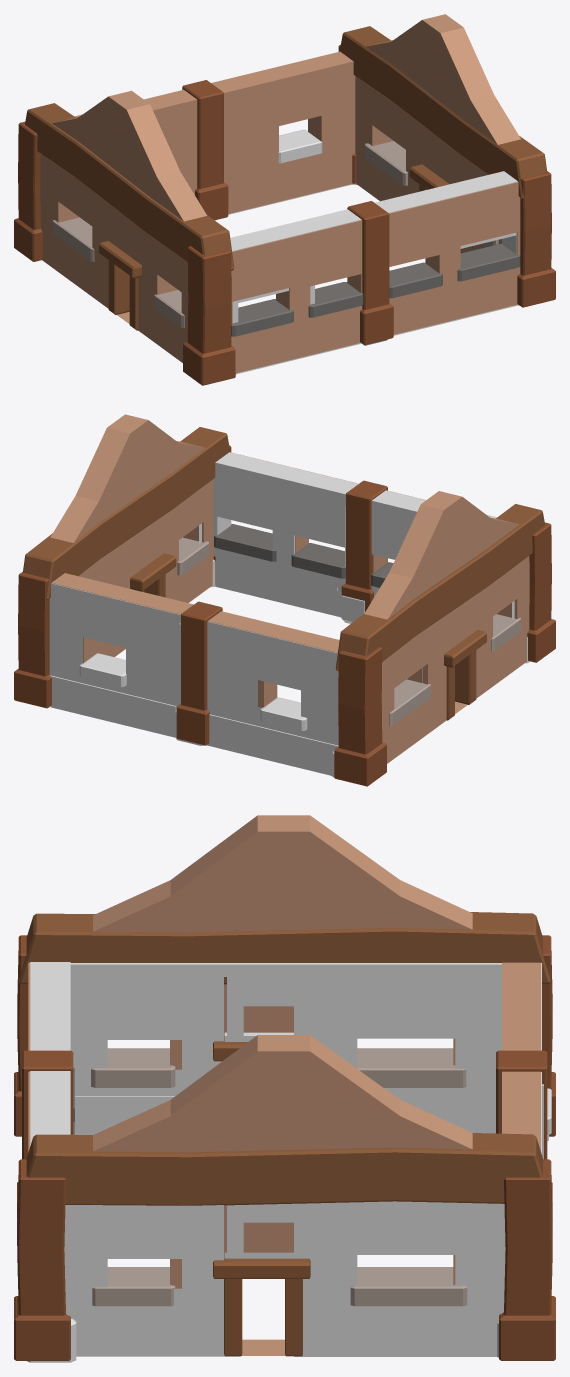
Rendered from ShopV2.fbx.
3 renders of one model, top to bottom at view 1: azimuth 30°, elevation 25°; view 2: azimuth 150°, elevation 25°; view 3: azimuth 270°, elevation 25°, orthographic. The views are drawn at different scales.
Parts seen in each view (by area): view 1: Building, WoodFrame, Top Frame, Windowbottom.003, Cube, Windowbottom, DoorFrame.002, Windowbottom.001, DoorFrame.001; view 2: Cube, Building, WoodFrame, Top Frame, Windowbottom.003, Windowbottom, DoorFrame.002, DoorFrame.001, Windowbottom.001, Windowbottom.002; view 3: Cube, Building, Top Frame, WoodFrame, Windowbottom, DoorFrame.001.
Part boxes in pixels (bbox=[...]): Building: bbox=[40, 14, 520, 373]; WoodFrame: bbox=[14, 44, 555, 385]; Top Frame: bbox=[25, 26, 546, 270]; Windowbottom.003: bbox=[231, 243, 520, 336]; Cube: bbox=[228, 171, 519, 374]; Windowbottom: bbox=[53, 141, 498, 327]; DoorFrame.002: bbox=[99, 241, 141, 330]; Windowbottom.001: bbox=[278, 129, 322, 163]; DoorFrame.001: bbox=[409, 164, 449, 191]; Cube: bbox=[49, 452, 529, 777]; Building: bbox=[50, 414, 529, 763]; WoodFrame: bbox=[14, 445, 555, 786]; Top Frame: bbox=[23, 427, 544, 671]; Windowbottom.003: bbox=[214, 524, 393, 587]; Windowbottom: bbox=[177, 537, 520, 725]; DoorFrame.002: bbox=[444, 630, 486, 720]; DoorFrame.001: bbox=[130, 553, 176, 597]; Windowbottom.001: bbox=[79, 653, 126, 686]; Windowbottom.002: bbox=[260, 697, 307, 730]; Cube: bbox=[27, 962, 548, 1362]; Building: bbox=[28, 815, 540, 1355]; Top Frame: bbox=[18, 912, 550, 1205]; WoodFrame: bbox=[14, 935, 555, 1360]; Windowbottom: bbox=[91, 1048, 467, 1306]; DoorFrame.001: bbox=[213, 1258, 310, 1356].
Bounding box in the file's own units: 2274 × 1337 × 2098.
